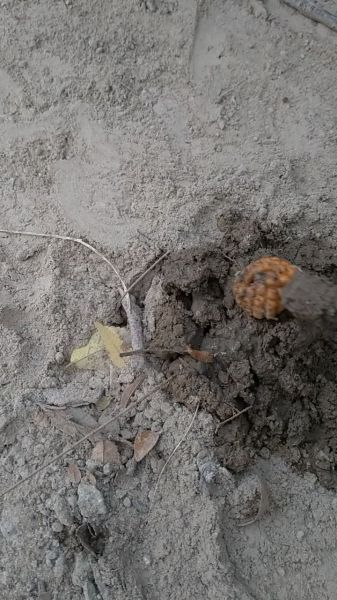eggs: (230, 254, 304, 329)
